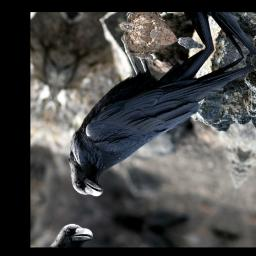Crow: (59, 19, 256, 232)
